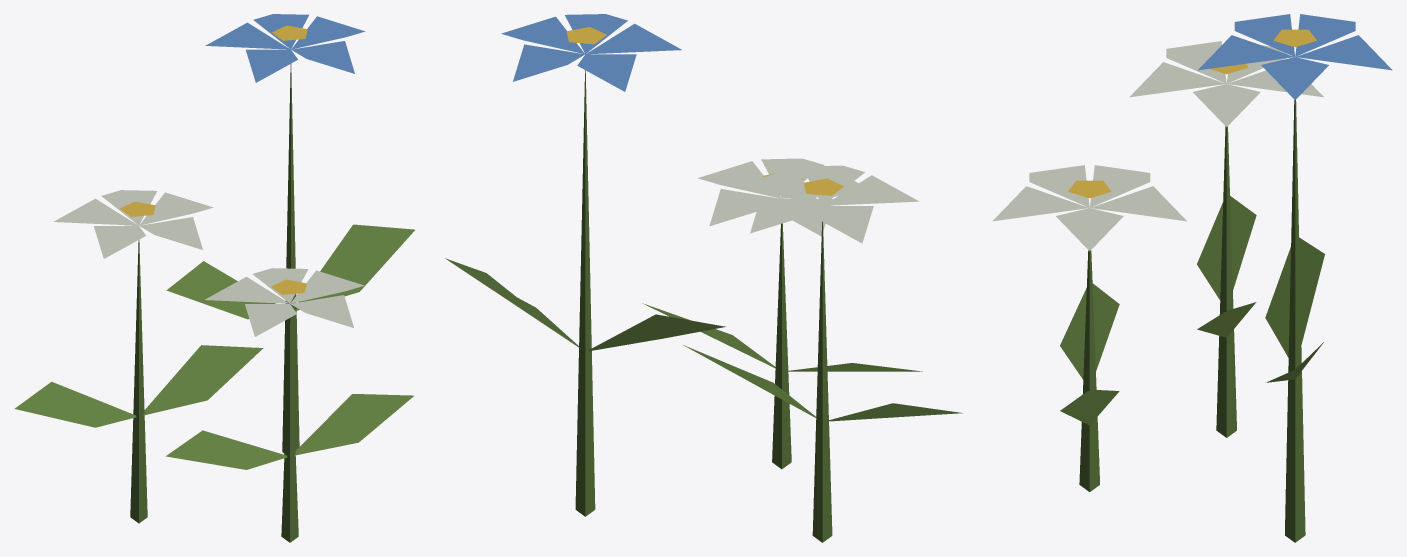
The model's file is wildflowers.glb.
3 views of the same model, side by side, from view 1: azimuth 30°, elevation 25°; view 2: azimuth 150°, elevation 25°; view 3: azimuth 270°, elevation 25° (orthographic). The views are drawn at different scales.
Parts seen in each view (by area): view 1: White daisies and blue woodland blooms; view 2: White daisies and blue woodland blooms; view 3: White daisies and blue woodland blooms.
Part boxes in pixels (<box>): White daisies and blue woodland blooms: <box>14,14,414,542</box>; White daisies and blue woodland blooms: <box>445,14,962,542</box>; White daisies and blue woodland blooms: <box>992,14,1392,542</box>.
Bounding box in the file's own units: 0.69 × 0.645 × 0.4683.
